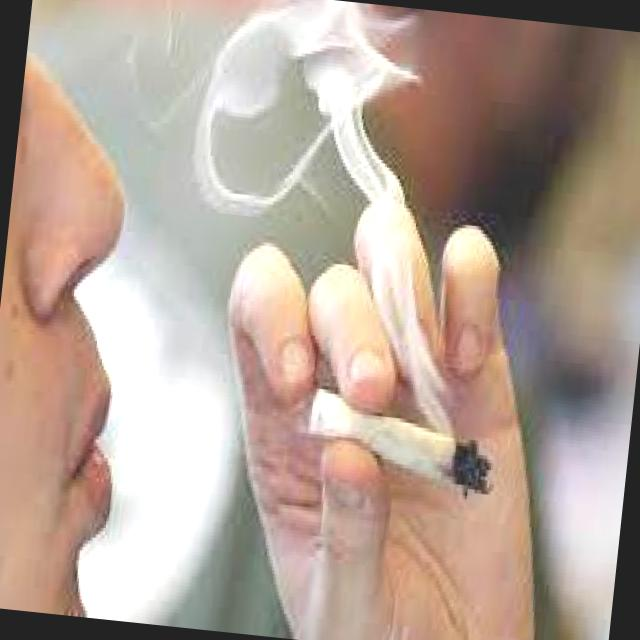cigarette: (302, 377, 507, 502)
